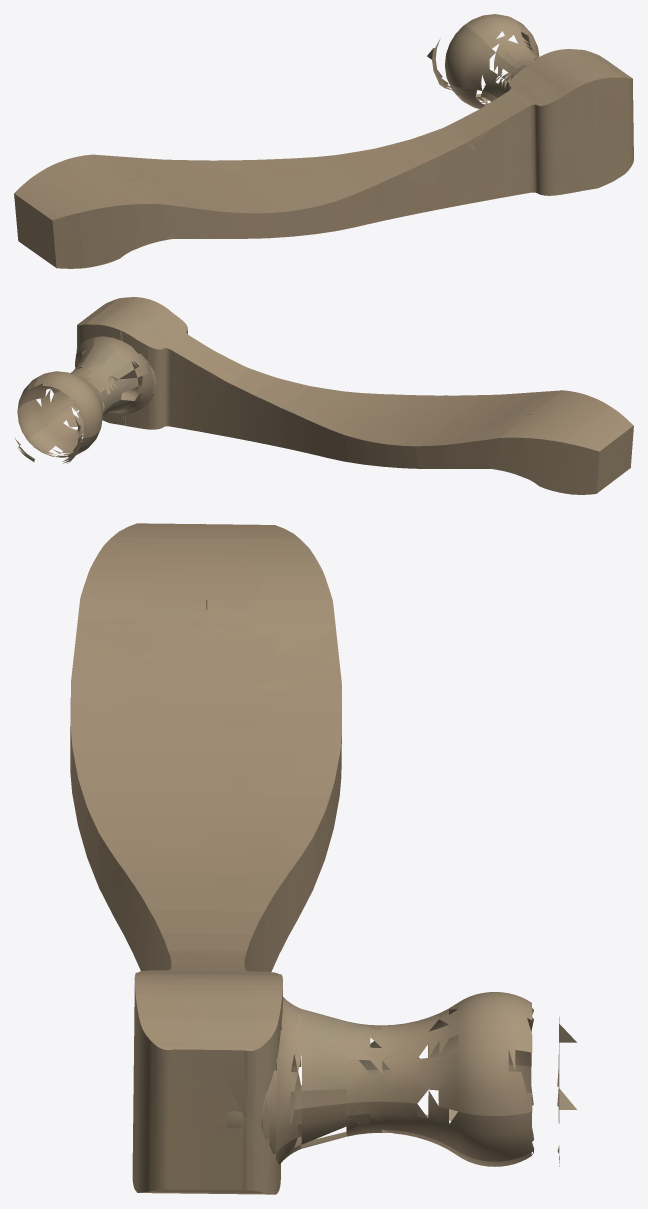
File: link_2__movable_part-8.glb
3 renders of one model, top to bottom at view 1: azimuth 30°, elevation 25°; view 2: azimuth 150°, elevation 25°; view 3: azimuth 270°, elevation 25°, orthographic. The views are drawn at different scales.
Visible parts, largest first — view 1: world; view 2: world; view 3: world.
Part boxes in pixels (<box>): world: <box>14,14,633,268</box>; world: <box>15,297,633,494</box>; world: <box>70,523,576,1194</box>.
Size of the model in its own units: 0.0706 by 0.0126 by 0.0293.
Materials: 1 (1 with a texture image).
